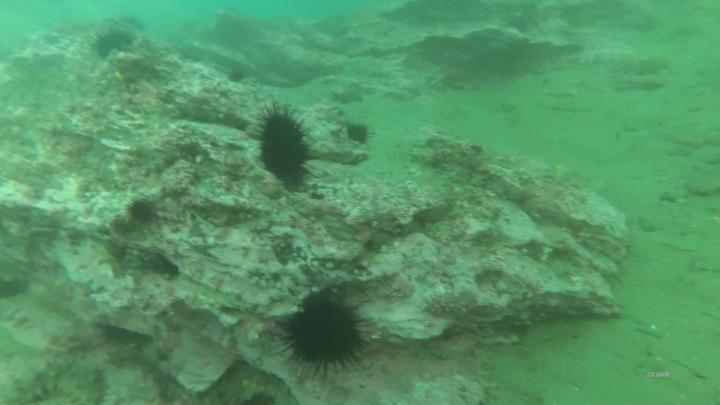echinus: (266, 288, 378, 383), (253, 103, 317, 191), (87, 27, 134, 61), (123, 197, 158, 226), (346, 120, 371, 150)
